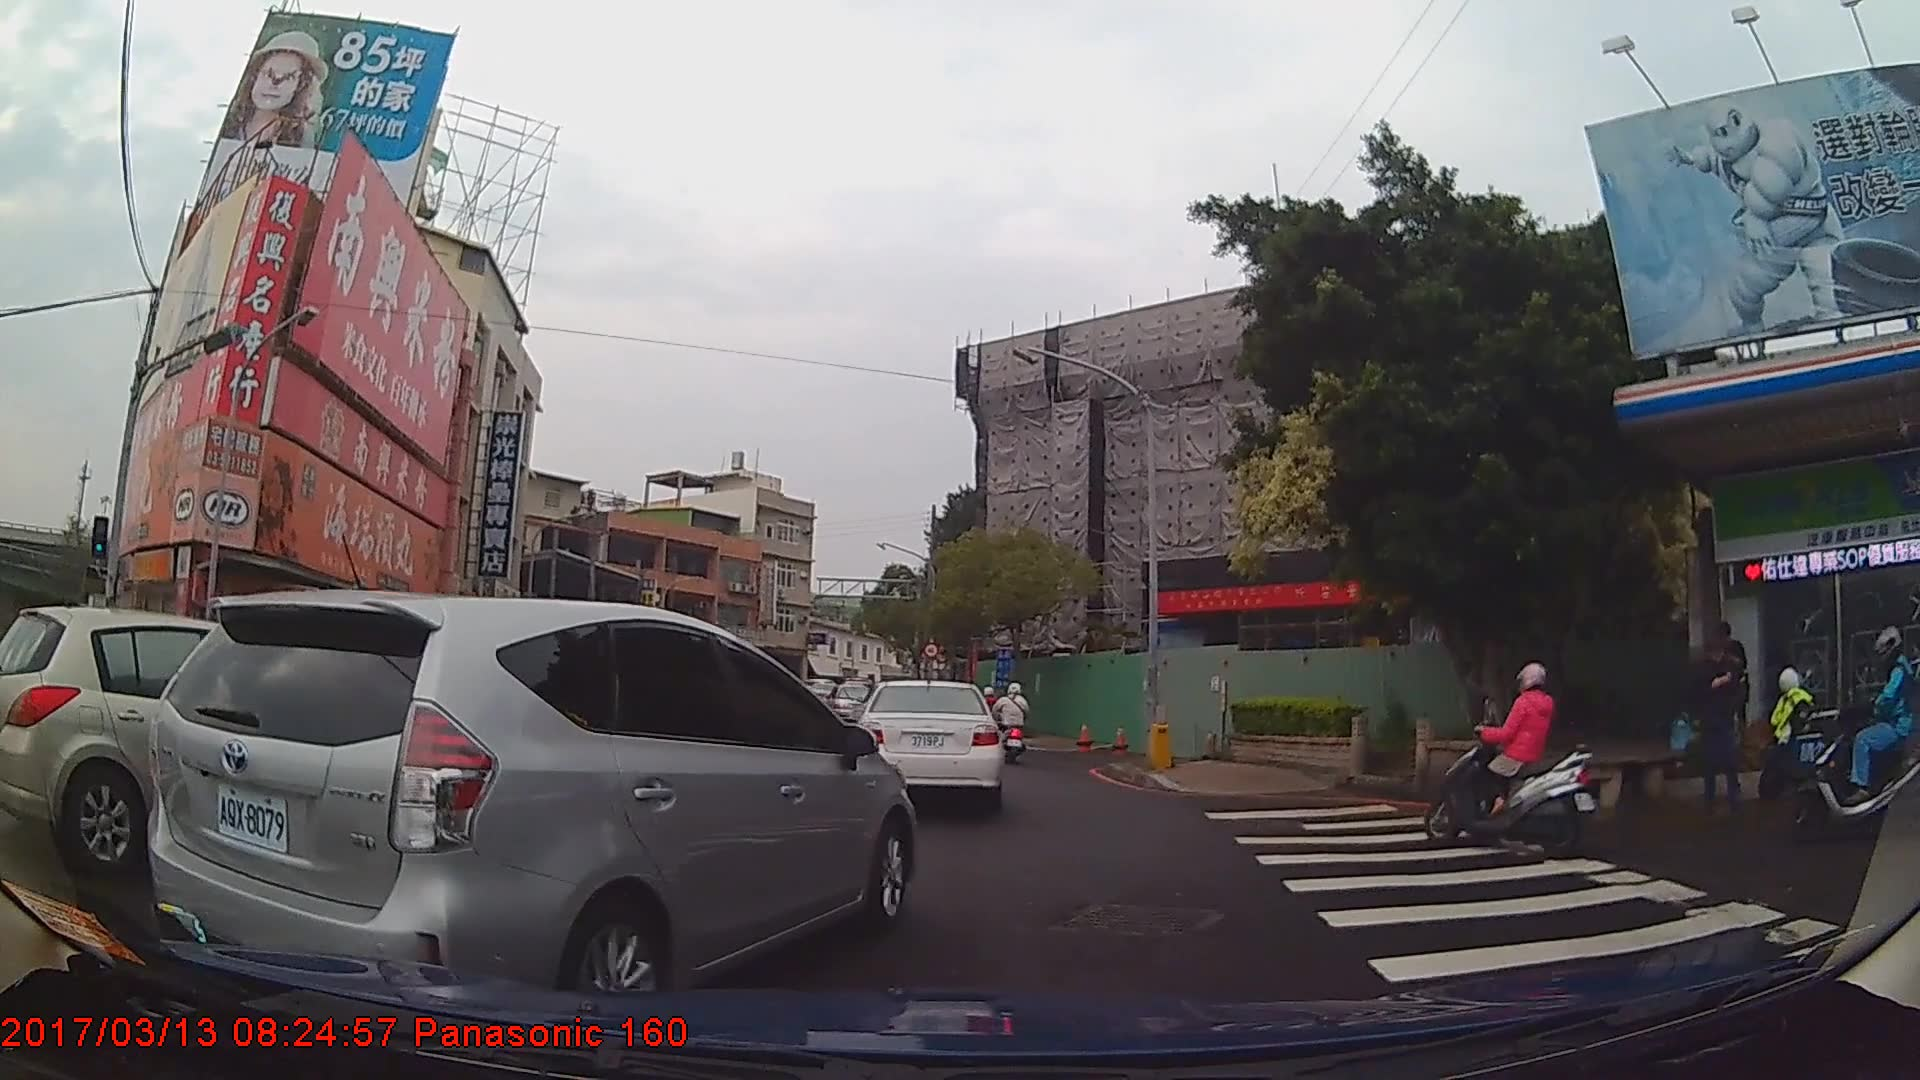pedestrian: (1687, 628, 1746, 815), (1698, 620, 1750, 749)
rider: (1414, 665, 1594, 847), (1787, 623, 1920, 841), (995, 681, 1030, 763)
vehicle: (144, 587, 922, 1013), (0, 604, 384, 870), (855, 677, 1006, 813)
